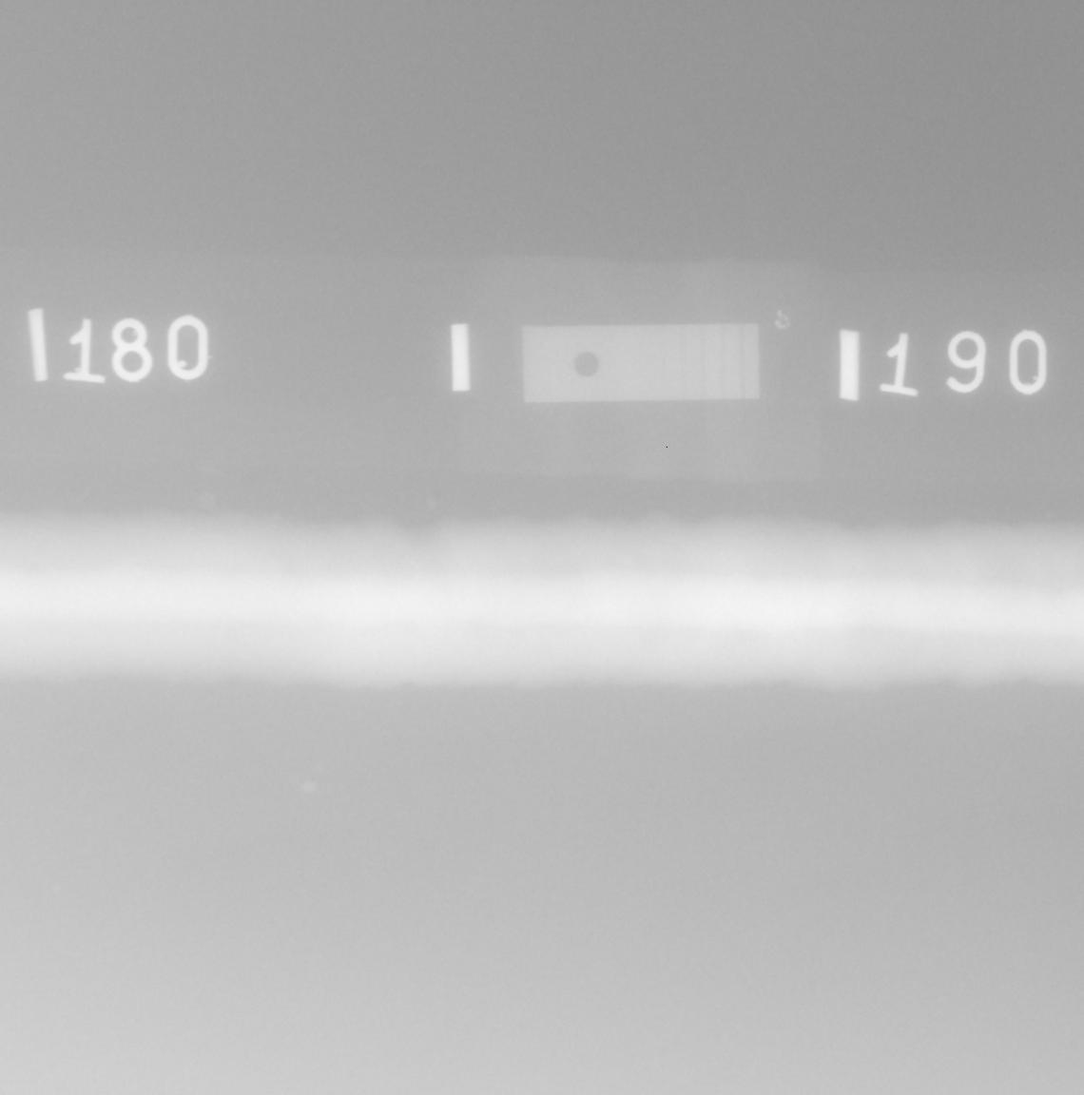Reference Standard 1: (522, 323, 759, 402)
